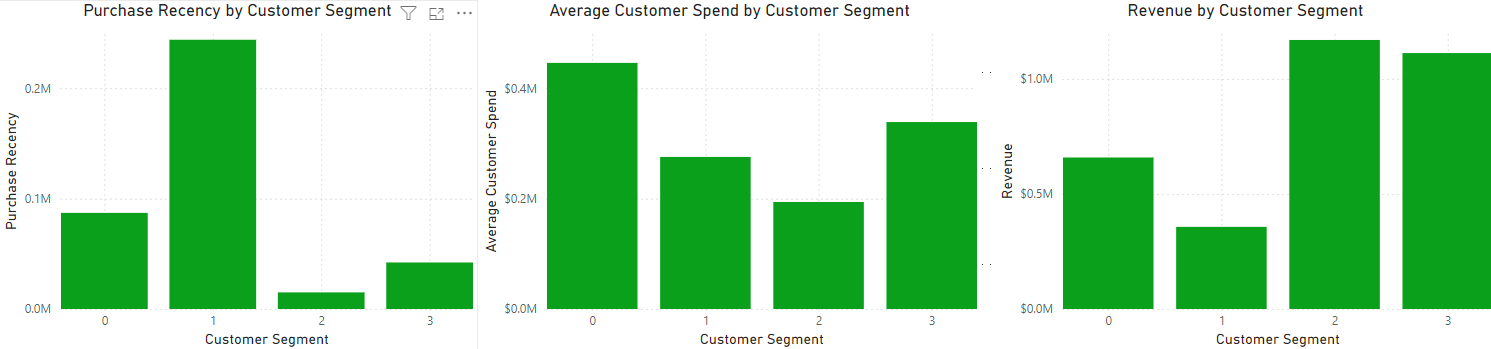

This screenshot's page, from the dashboard's own definition file:
{"tool":"powerbi","page":{"name":" Cluster-Specific Revenue","canvas":[1500,720],"ordinal":0},"visuals":[{"type":"columnChart","title":"Revenue by Customer Segment","fields":{"Category":["Aggregated Dataset.RMF Cluster"],"Y":["Sum(Aggregated Dataset.Price)"]},"box":[996,120,504,352],"z":0},{"type":"columnChart","title":"Purchase Recency by Customer Segment","fields":{"Category":["Aggregated Dataset.RMF Cluster"],"Y":["Sum(Aggregated Dataset.Recency)"]},"box":[0,120,480,352],"z":1000},{"type":"columnChart","title":"Average Customer Spend by Customer Segment","fields":{"Category":["Aggregated Dataset.RMF Cluster"],"Y":["Sum(Aggregated Dataset.Amount_Spent_per_Visit)"]},"box":[480,120,504,352],"z":1001}]}

Visuals, with their boxes on the page's 1500x720 design canvas (x1, y1, x2, y2). These are canvas units, not pixel positions in the 1491x349 screenshot, which may show the page scaled, cropped or inside an application window:
"Revenue by Customer Segment" columnChart: (x1=996, y1=120, x2=1500, y2=472)
"Purchase Recency by Customer Segment" columnChart: (x1=0, y1=120, x2=480, y2=472)
"Average Customer Spend by Customer Segment" columnChart: (x1=480, y1=120, x2=984, y2=472)
